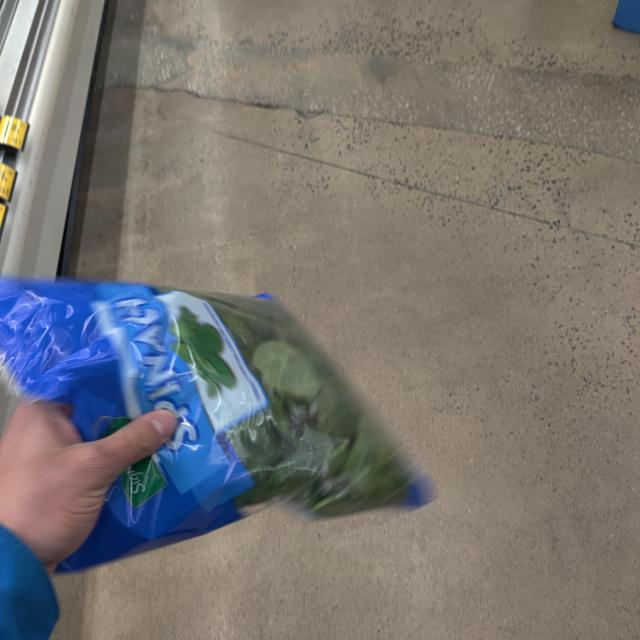Salad: (0, 273, 457, 535)
